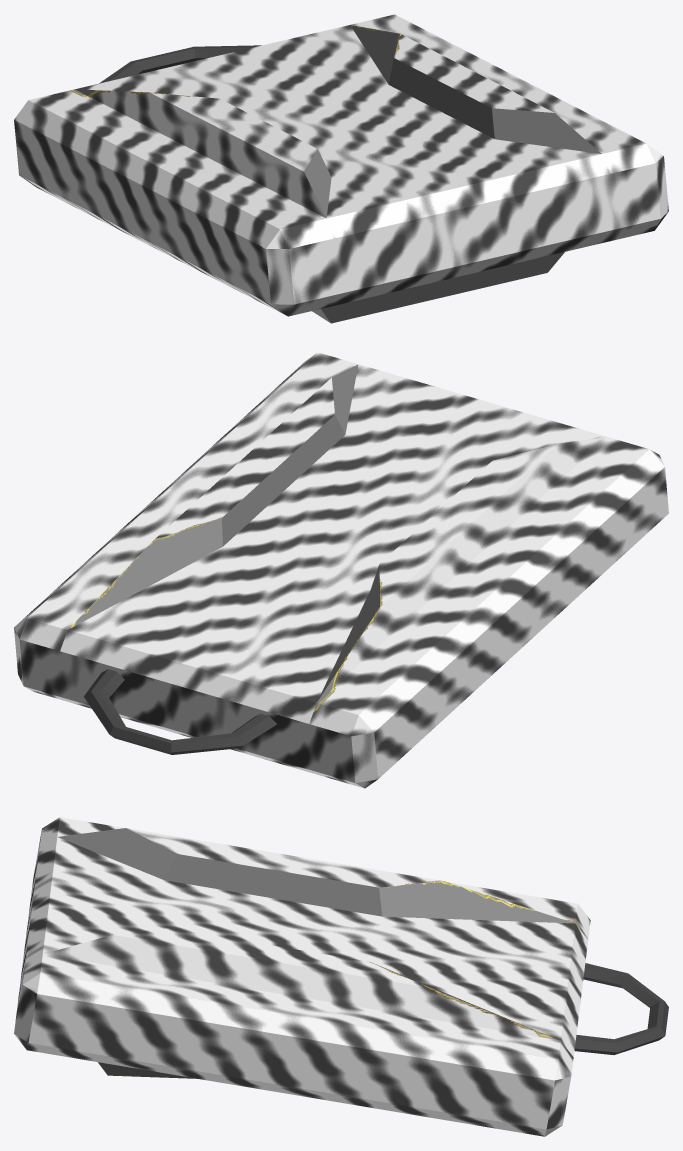
Rendered from SM_Hub_Bag_06.fbx.
The picture shows the model from 3 angles, top to bottom: view 1: azimuth 30°, elevation 25°; view 2: azimuth 150°, elevation 25°; view 3: azimuth 270°, elevation 25°; orthographic projection. The views are drawn at different scales.
Visible parts, largest first — view 1: pasted__SM_Baggage_Bag_03; view 2: pasted__SM_Baggage_Bag_03; view 3: pasted__SM_Baggage_Bag_03.
Boxes of the visible parts, x1,y1,x2,y2 form: pasted__SM_Baggage_Bag_03: (14,14,668,323); pasted__SM_Baggage_Bag_03: (14,352,668,788); pasted__SM_Baggage_Bag_03: (14,817,668,1136).
Size of the model in its own units: 4.29 by 1.83 by 6.31.
